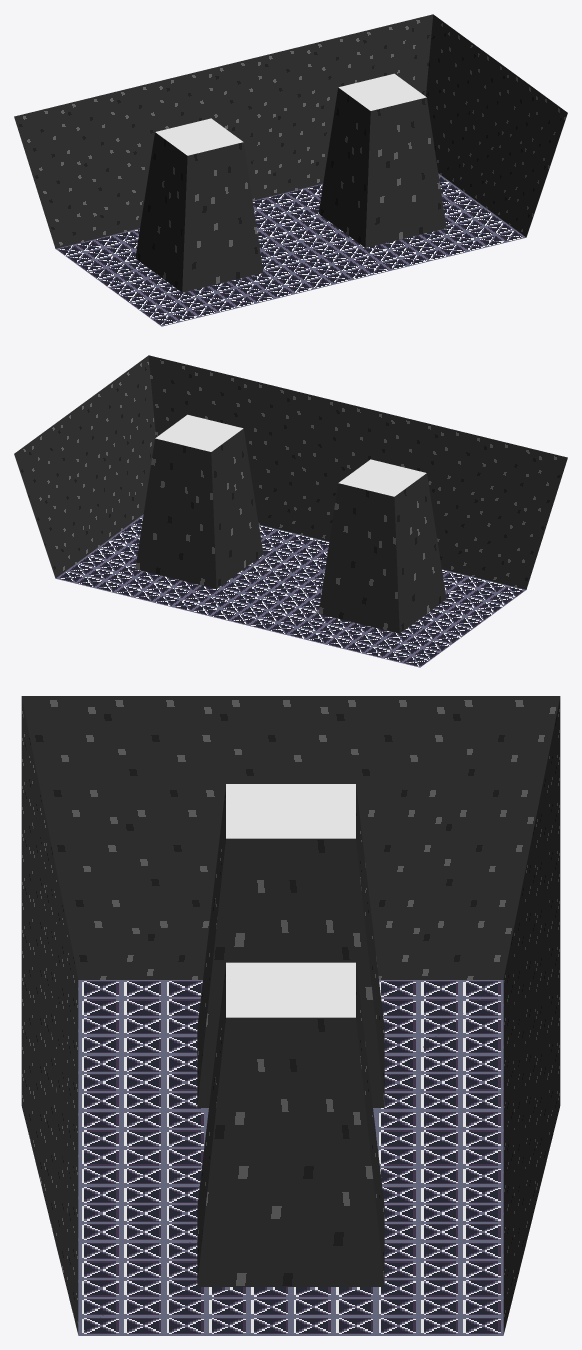
The model's file is lab.glb.
The picture shows the model from 3 angles, top to bottom: view 1: azimuth 30°, elevation 25°; view 2: azimuth 150°, elevation 25°; view 3: azimuth 270°, elevation 25°; orthographic projection. The views are drawn at different scales.
Parts seen in each view (by area): view 1: Level, Cube.003, Cube.001; view 2: Level, Cube.003, Cube.001; view 3: Level, Cube.001, Cube.003.
Part boxes in pixels (x1=…): Level: x1=14, y1=14, x2=567, y2=326; Cube.003: x1=135, y1=118, x2=263, y2=292; Cube.001: x1=318, y1=73, x2=446, y2=247; Level: x1=14, y1=355, x2=567, y2=667; Cube.003: x1=318, y1=459, x2=446, y2=633; Cube.001: x1=135, y1=414, x2=263, y2=588; Level: x1=21, y1=696, x2=560, y2=1335; Cube.001: x1=197, y1=962, x2=384, y2=1286; Cube.003: x1=197, y1=784, x2=384, y2=1107.
Bounding box in the file's own units: 13.65 × 4 × 7.6.
Materials: 3 (2 with a texture image).
